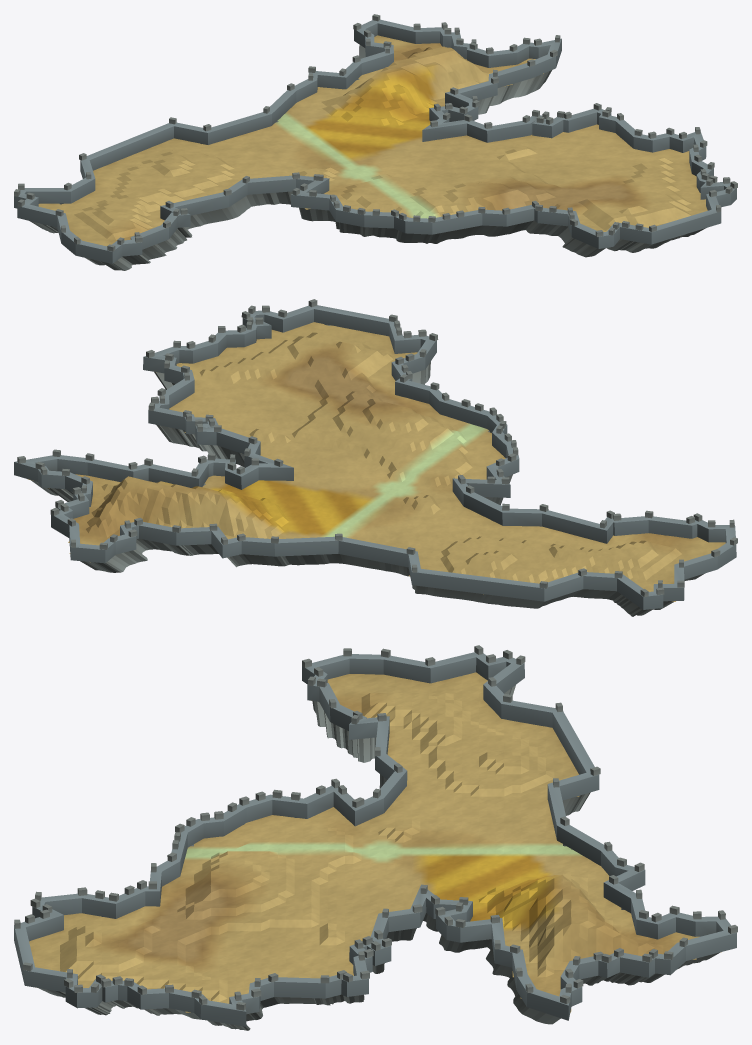
3 views of the same model, one above another, from view 1: azimuth 30°, elevation 25°; view 2: azimuth 150°, elevation 25°; view 3: azimuth 270°, elevation 25° (orthographic). The views are drawn at different scales.
Visible parts, largest first — view 1: ground_9190d601; view 2: ground_9190d601; view 3: ground_9190d601.
Boxes of the visible parts, x1,y1,x2,y2 form: ground_9190d601: (14,14,737,270); ground_9190d601: (14,299,737,616); ground_9190d601: (14,645,737,1030).
Size of the model in its own units: 153 by 9.95 by 130.
Materials: 2 (1 with a texture image).
